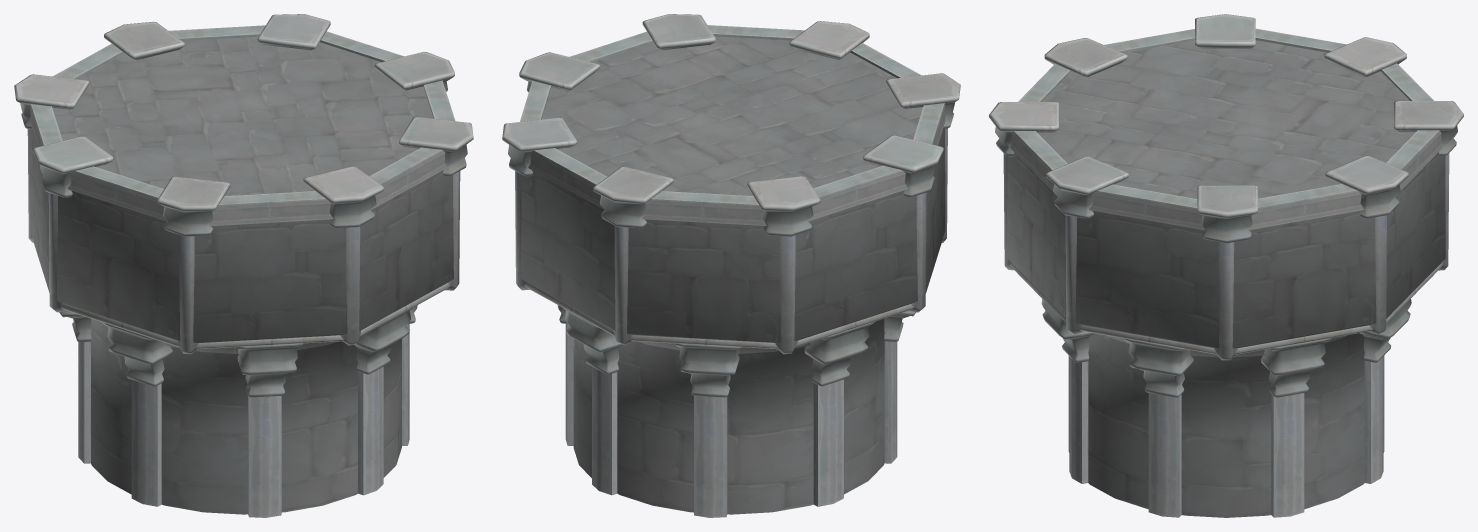
Rendered from SM_TowerD_Top.fbx.
3 renders of one model, left to right at view 1: azimuth 30°, elevation 25°; view 2: azimuth 150°, elevation 25°; view 3: azimuth 270°, elevation 25°, orthographic.
Parts seen in each view (by area): view 1: SM_TowerD_Top_LOD0; view 2: SM_TowerD_Top_LOD0; view 3: SM_TowerD_Top_LOD0.
Part boxes in pixels (x1=…): SM_TowerD_Top_LOD0: x1=14, y1=14, x2=473, y2=517; SM_TowerD_Top_LOD0: x1=502, y1=14, x2=960, y2=517; SM_TowerD_Top_LOD0: x1=989, y1=14, x2=1463, y2=517.
Size of what is drawn, in the model's own units: 601 by 472 by 601.
